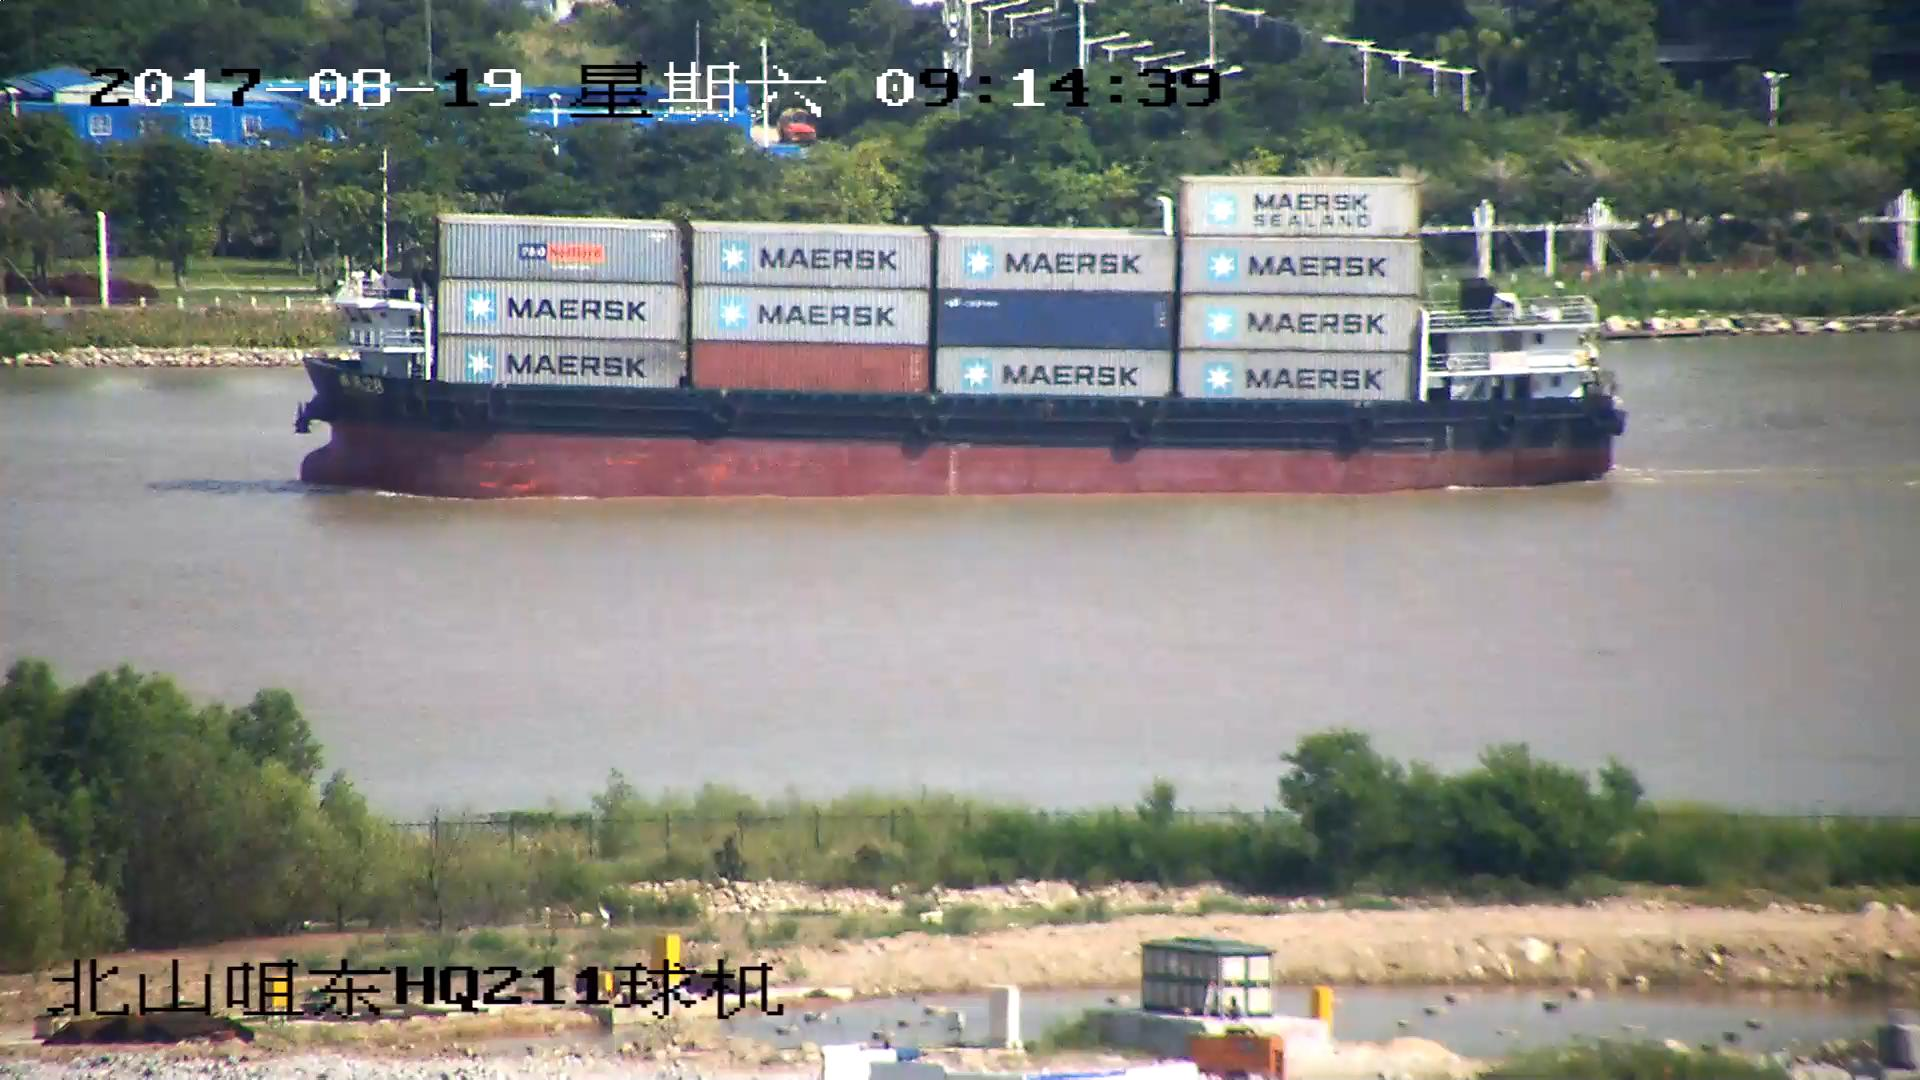container ship: (297, 146, 1625, 503)
